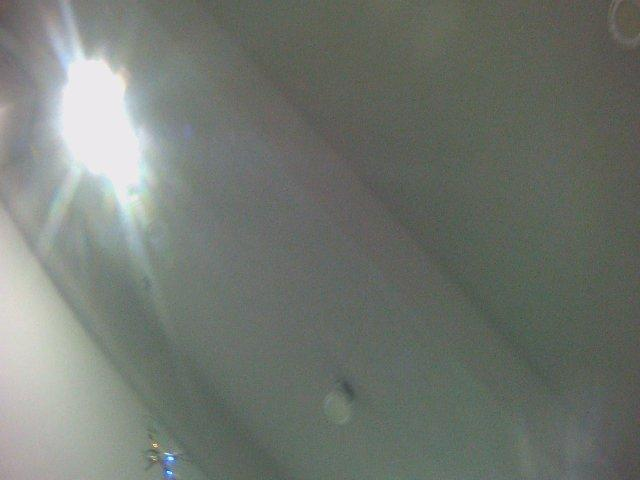drone: (129, 411, 198, 480)
